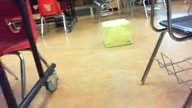cube: (101, 18, 132, 48)
